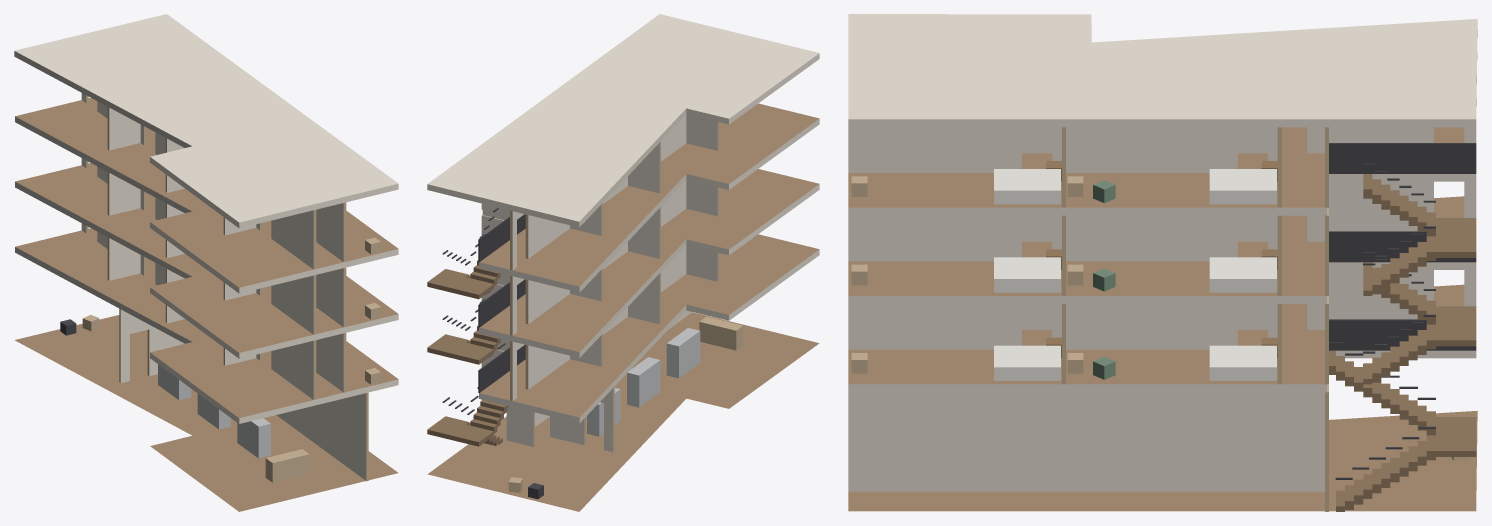
The model's file is interior.glb.
3 renders of one model, left to right at view 1: azimuth 30°, elevation 25°; view 2: azimuth 150°, elevation 25°; view 3: azimuth 270°, elevation 25°, orthographic. The views are drawn at different scales.
Visible parts, largest first — view 1: slabs, partitions, coarse-s0; view 2: slabs, partitions, stair, coarse-s0; view 3: slabs, partitions, stair, coarse-s2, coarse-s1, coarse-s3.
Boxes of the visible parts, <box> form: slabs: <box>14,14,398,511</box>; partitions: <box>81,93,368,481</box>; coarse-s0: <box>60,315,309,482</box>; slabs: <box>427,14,819,511</box>; partitions: <box>481,114,718,452</box>; stair: <box>427,208,525,446</box>; coarse-s0: <box>508,316,743,499</box>; slabs: <box>848,14,1477,511</box>; partitions: <box>848,127,1476,511</box>; stair: <box>1329,143,1476,511</box>; coarse-s2: <box>851,249,1277,292</box>; coarse-s1: <box>851,337,1277,380</box>; coarse-s3: <box>851,161,1277,204</box>.
Bounding box in the file's own units: 7.42 × 12.88 × 18.72.
